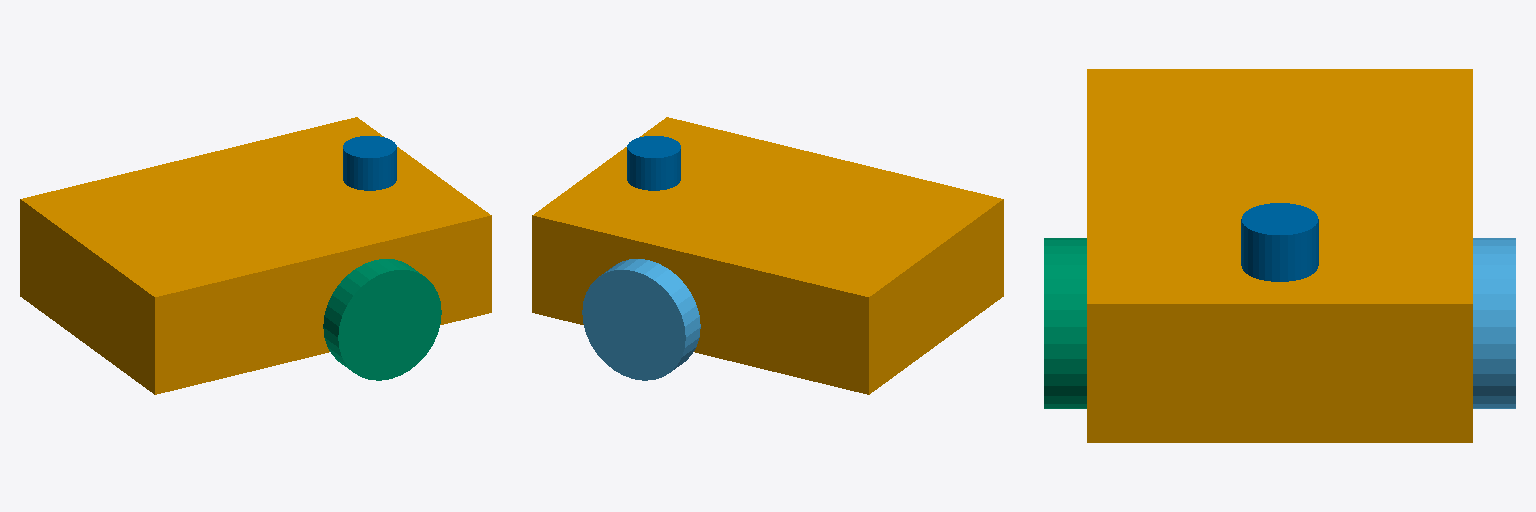
robot.urdf — differential_drive_amr:
<?xml version="1.0"?>
<robot name="differential_drive_amr">
  <link name="chassis_link">
    <inertial>
      <origin xyz="0 0 0.14" rpy="0 0 0"/>
      <mass value="28.0"/>
      <inertia ixx="0.65" ixy="0" ixz="0" iyy="1.15" iyz="0" izz="1.45"/>
    </inertial>
    <visual>
      <origin xyz="0 0 0.14" rpy="0 0 0"/>
      <geometry><box size="0.65 0.45 0.18"/></geometry>
    </visual>
    <collision>
      <origin xyz="0 0 0.14" rpy="0 0 0"/>
      <geometry><box size="0.65 0.45 0.18"/></geometry>
    </collision>
  </link>

  <link name="left_wheel">
    <inertial>
      <origin xyz="0 0 0" rpy="1.5708 0 0"/>
      <mass value="2.2"/>
      <inertia ixx="0.012" ixy="0" ixz="0" iyy="0.012" iyz="0" izz="0.018"/>
    </inertial>
    <visual>
      <origin xyz="0 0 0" rpy="1.5708 0 0"/>
      <geometry><cylinder radius="0.10" length="0.05"/></geometry>
    </visual>
    <collision>
      <origin xyz="0 0 0" rpy="1.5708 0 0"/>
      <geometry><cylinder radius="0.10" length="0.05"/></geometry>
    </collision>
  </link>

  <link name="right_wheel">
    <inertial>
      <origin xyz="0 0 0" rpy="1.5708 0 0"/>
      <mass value="2.2"/>
      <inertia ixx="0.012" ixy="0" ixz="0" iyy="0.012" iyz="0" izz="0.018"/>
    </inertial>
    <visual>
      <origin xyz="0 0 0" rpy="1.5708 0 0"/>
      <geometry><cylinder radius="0.10" length="0.05"/></geometry>
    </visual>
    <collision>
      <origin xyz="0 0 0" rpy="1.5708 0 0"/>
      <geometry><cylinder radius="0.10" length="0.05"/></geometry>
    </collision>
  </link>

  <link name="rear_caster">
    <inertial>
      <origin xyz="0 0 0" rpy="0 0 0"/>
      <mass value="0.6"/>
      <inertia ixx="0.001" ixy="0" ixz="0" iyy="0.001" iyz="0" izz="0.001"/>
    </inertial>
    <visual>
      <geometry><sphere radius="0.045"/></geometry>
    </visual>
    <collision>
      <geometry><sphere radius="0.045"/></geometry>
    </collision>
  </link>

  <link name="lidar_link">
    <inertial>
      <origin xyz="0 0 0" rpy="0 0 0"/>
      <mass value="0.45"/>
      <inertia ixx="0.001" ixy="0" ixz="0" iyy="0.001" iyz="0" izz="0.0012"/>
    </inertial>
    <visual>
      <geometry><cylinder radius="0.045" length="0.06"/></geometry>
    </visual>
    <collision>
      <geometry><cylinder radius="0.045" length="0.06"/></geometry>
    </collision>
  </link>

  <joint name="left_wheel_joint" type="continuous">
    <parent link="chassis_link"/>
    <child link="left_wheel"/>
    <origin xyz="0.10 0.25 0.10" rpy="0 0 0"/>
    <axis xyz="0 1 0"/>
  </joint>

  <joint name="right_wheel_joint" type="continuous">
    <parent link="chassis_link"/>
    <child link="right_wheel"/>
    <origin xyz="0.10 -0.25 0.10" rpy="0 0 0"/>
    <axis xyz="0 1 0"/>
  </joint>

  <joint name="rear_caster_joint" type="fixed">
    <parent link="chassis_link"/>
    <child link="rear_caster"/>
    <origin xyz="-0.25 0 0.045" rpy="0 0 0"/>
  </joint>

  <joint name="lidar_mount_joint" type="fixed">
    <parent link="chassis_link"/>
    <child link="lidar_link"/>
    <origin xyz="0.22 0 0.26" rpy="0 0 0"/>
  </joint>
</robot>

--- Facts derived from the render (not from the file) ---
3 views of the same robot in one strip: view 1: azimuth 30°, elevation 25°; view 2: azimuth 150°, elevation 25°; view 3: azimuth 270°, elevation 25° (orthographic).
Model differential_drive_amr with 5 links and 4 joints (2 continuous, 2 fixed), rooted at chassis_link, posed every joint at zero.
Visible links, largest first — view 1: chassis_link, right_wheel, lidar_link; view 2: chassis_link, left_wheel, lidar_link; view 3: chassis_link, left_wheel, right_wheel, lidar_link.
Boxes of the visible links, bbox=[...] form: chassis_link: bbox=[20, 117, 491, 394]; right_wheel: bbox=[323, 259, 441, 380]; lidar_link: bbox=[343, 136, 396, 190]; chassis_link: bbox=[532, 117, 1003, 394]; left_wheel: bbox=[582, 259, 700, 380]; lidar_link: bbox=[627, 136, 680, 190]; chassis_link: bbox=[1087, 69, 1472, 442]; left_wheel: bbox=[1473, 238, 1515, 408]; right_wheel: bbox=[1044, 238, 1086, 408]; lidar_link: bbox=[1241, 203, 1318, 281].
Bounding box of the posed robot: 0.65 × 0.55 × 0.29 m (x, y, z).
Geometry: primitives only (box / cylinder / sphere), no mesh files.
